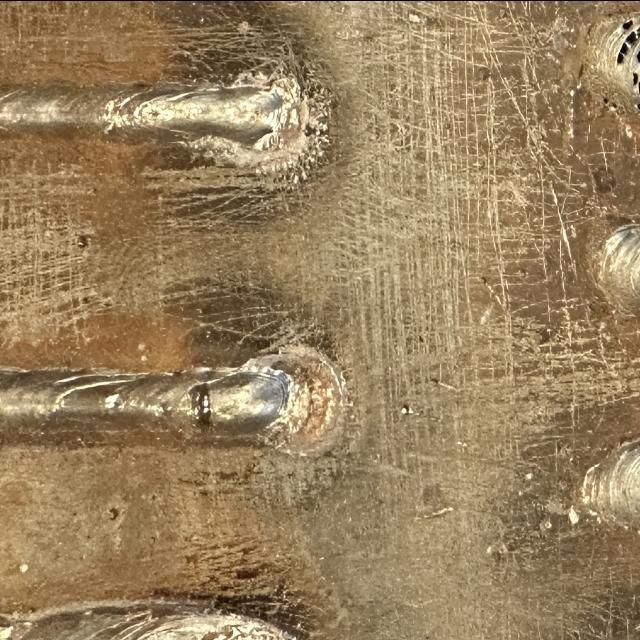Excess Reinforcement: (173, 343, 346, 455), (182, 68, 332, 182)
Porosity: (625, 27, 640, 45), (618, 42, 629, 63), (622, 17, 636, 30), (632, 67, 639, 88), (634, 78, 640, 93), (635, 43, 639, 63), (612, 99, 619, 109), (636, 102, 640, 108), (604, 97, 608, 102)
Spatters: (76, 233, 89, 248), (109, 507, 119, 520), (401, 403, 413, 413), (516, 268, 528, 278), (19, 562, 29, 572), (480, 275, 487, 283)
